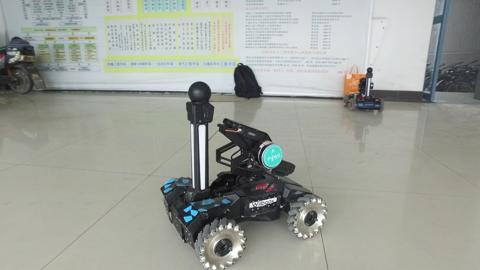bag: (231, 60, 264, 102), (342, 62, 367, 97)
chariot: (157, 79, 329, 270), (340, 65, 383, 112)
